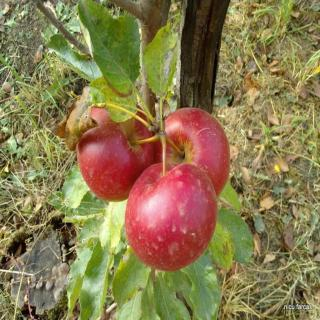Apple: (121, 158, 216, 276), (76, 100, 156, 202), (153, 107, 231, 198)
